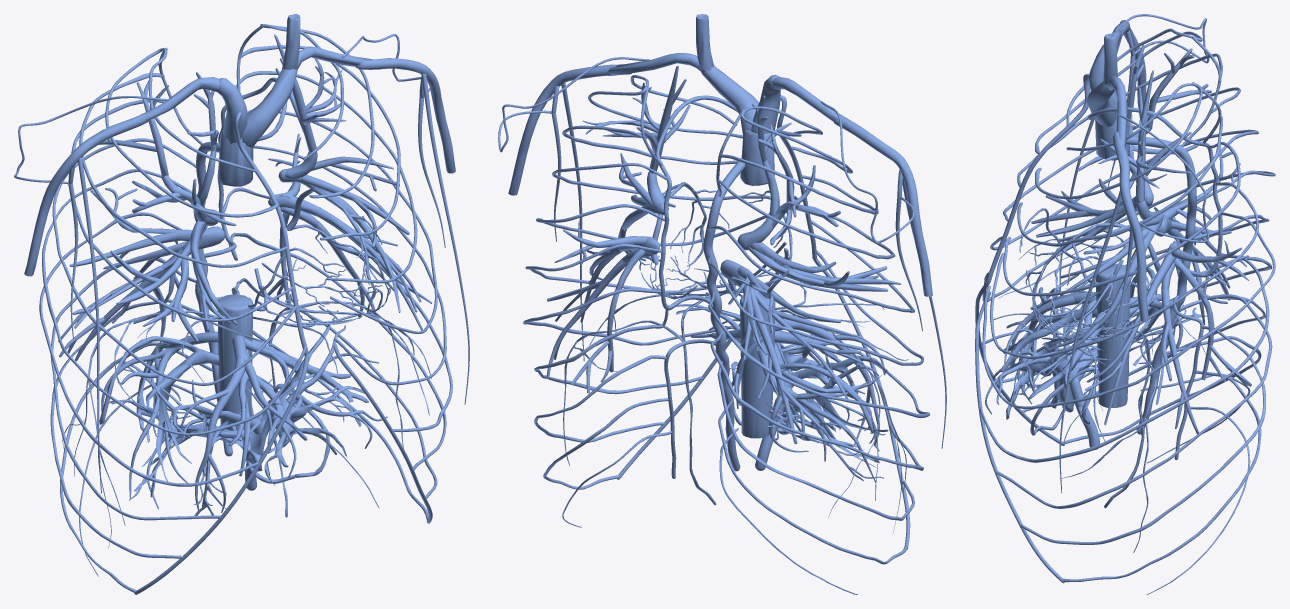
Rendered from veines-thorax.lo.glb.
The picture shows the model from 3 angles, left to right: view 1: azimuth 30°, elevation 25°; view 2: azimuth 150°, elevation 25°; view 3: azimuth 270°, elevation 25°; orthographic projection. The views are drawn at different scales.
Parts seen in each view (by area): view 1: FJ1994, FJ1985, FJ2404, FJ2416, FJ3441, FJ2269, FJ2217, FJ3482, FJ2414, FJ1996, FJ3645, FJ1993 (+20 smaller); view 2: FJ1994, FJ1985, FJ3441, FJ3416, FJ2269, FJ2416, FJ2404, FJ2217, FJ1981, FJ3482, FJ3645, FJ3486 (+21 smaller); view 3: FJ1985, FJ1994, FJ3441, FJ3416, FJ2404, FJ2217, FJ1988, FJ1993, FJ1981, FJ2414, FJ2233, FJ3482 (+32 smaller).
Part boxes in pixels (x1,y1,x2,y2): FJ1994: (39, 48, 307, 592); FJ1985: (223, 24, 452, 519); FJ2404: (154, 324, 364, 515); FJ2416: (99, 336, 219, 481); FJ3441: (217, 294, 253, 443); FJ2269: (24, 113, 149, 276); FJ2217: (355, 58, 455, 173); FJ3482: (241, 68, 297, 147); FJ2414: (228, 349, 307, 476); FJ1996: (134, 354, 308, 594); FJ3645: (217, 131, 253, 186); FJ1993: (233, 112, 308, 355); FJ1994: (707, 106, 930, 594); FJ1985: (523, 75, 786, 527); FJ3441: (740, 291, 775, 438); FJ3416: (703, 157, 745, 471); FJ2269: (833, 117, 932, 296); FJ2416: (772, 362, 888, 446); FJ2404: (676, 307, 887, 451); FJ2217: (508, 64, 631, 195); FJ1981: (655, 95, 737, 313); FJ3482: (701, 65, 758, 135); FJ3645: (740, 130, 774, 185); FJ3486: (606, 53, 700, 76); FJ1985: (980, 83, 1275, 594); FJ1994: (982, 28, 1275, 463); FJ3441: (1096, 263, 1130, 407); FJ3416: (1126, 135, 1196, 434); FJ2404: (995, 274, 1103, 419); FJ2217: (1113, 131, 1148, 321); FJ1988: (975, 291, 1064, 583); FJ1993: (987, 73, 1090, 282); FJ1981: (1087, 107, 1222, 277); FJ2414: (1000, 308, 1097, 372); FJ2233: (1059, 190, 1121, 493); FJ3482: (1087, 81, 1116, 126).
Size of the model in its own units: 0.3143 by 0.371 by 0.198.
